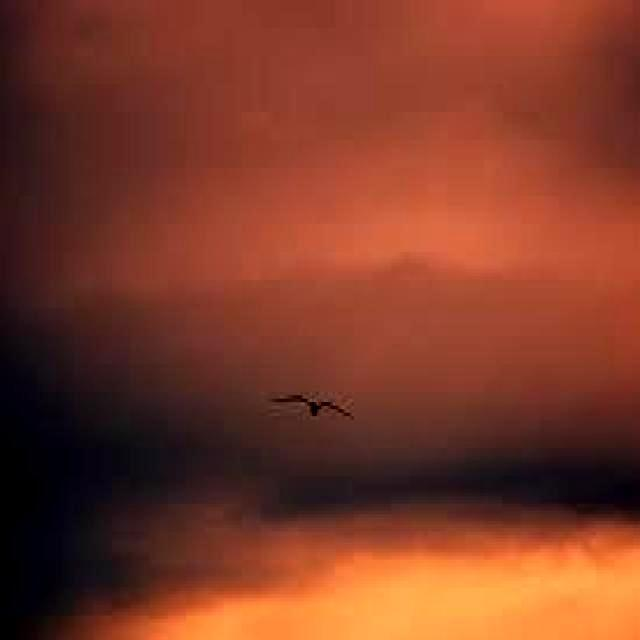bird: (264, 381, 358, 432)
